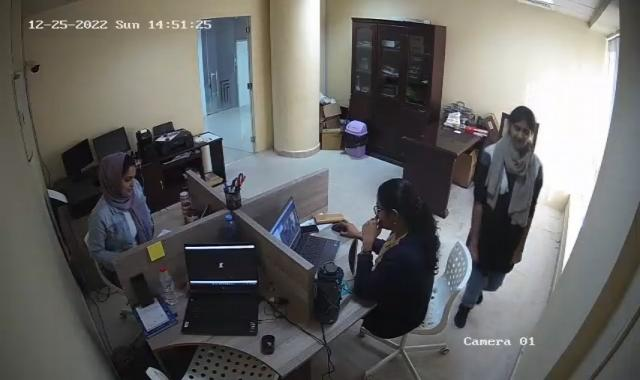no_hairnet: (376, 179, 417, 231), (102, 150, 138, 203), (509, 105, 537, 150)
